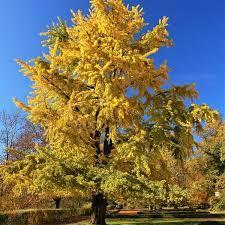tree: (13, 1, 180, 225)
